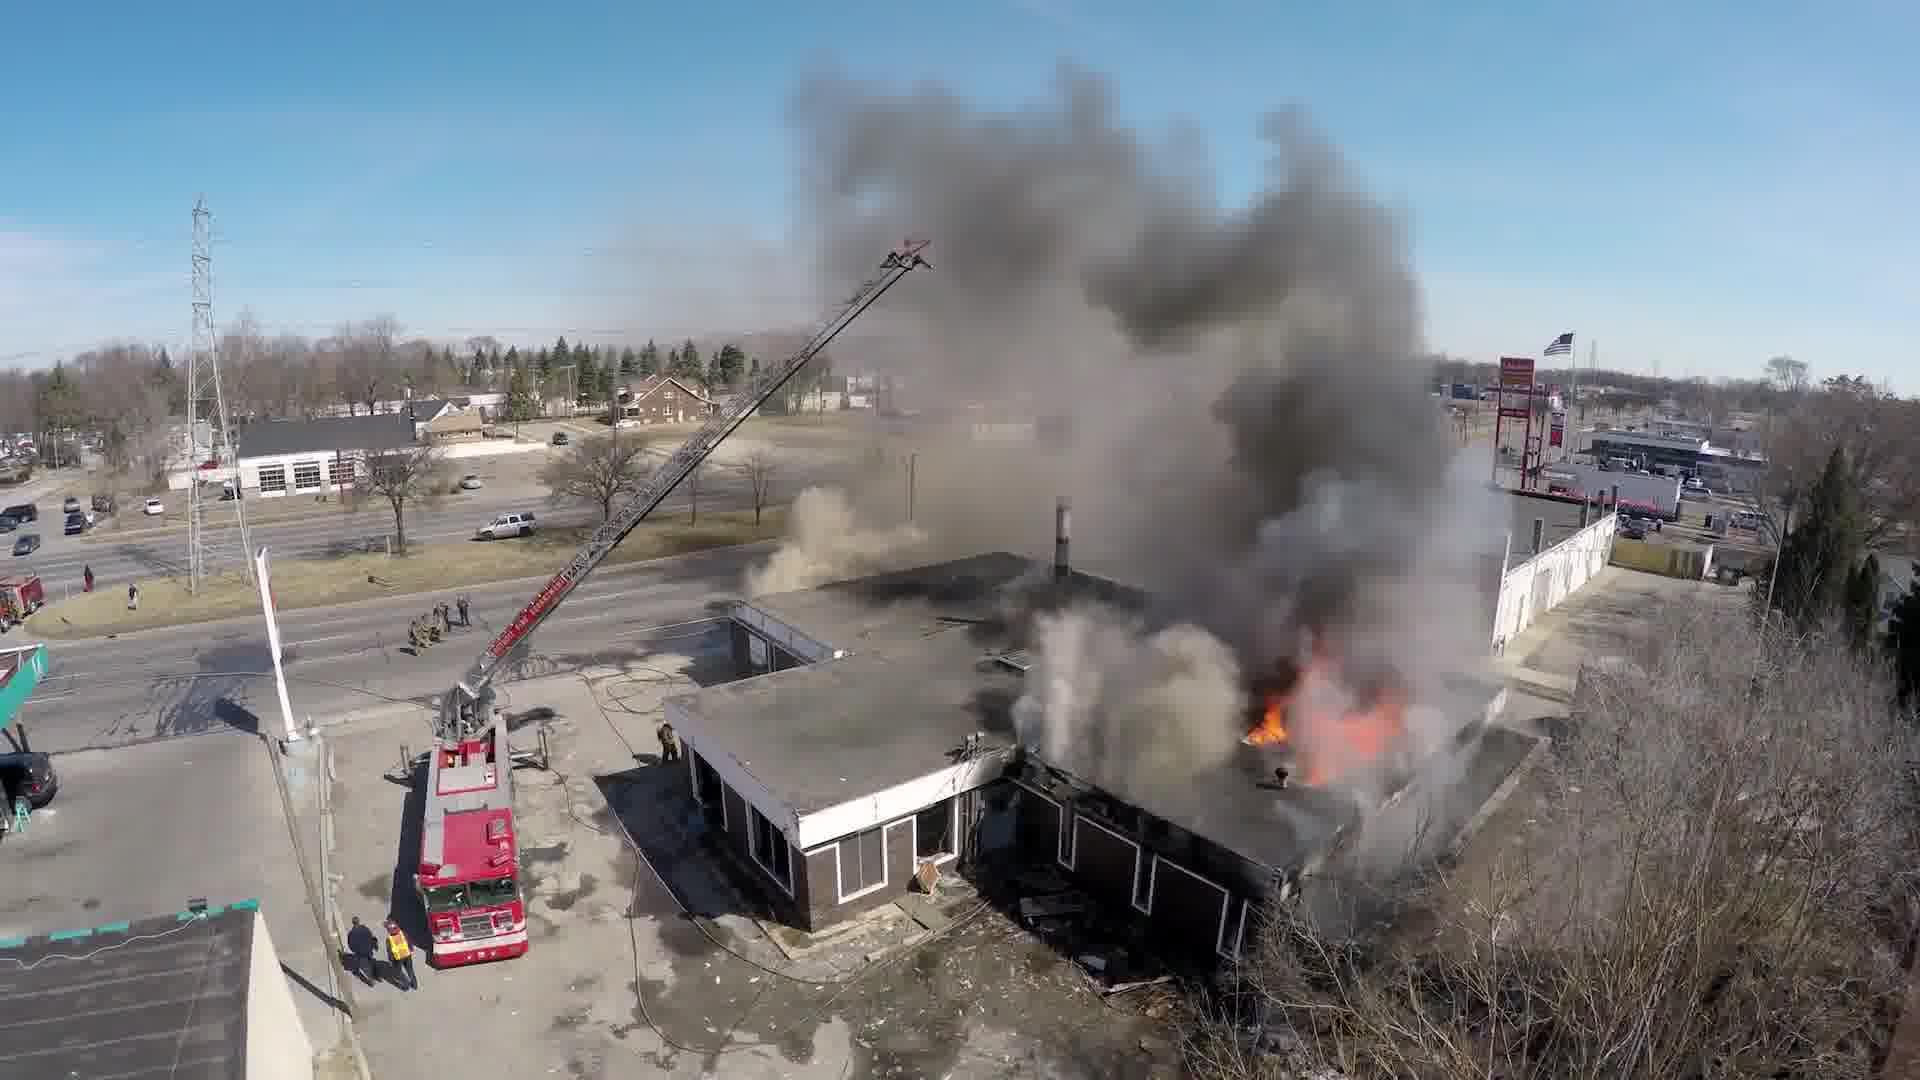smoke: (888, 176, 1404, 774)
